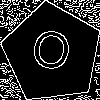O: (27, 28, 74, 81)
